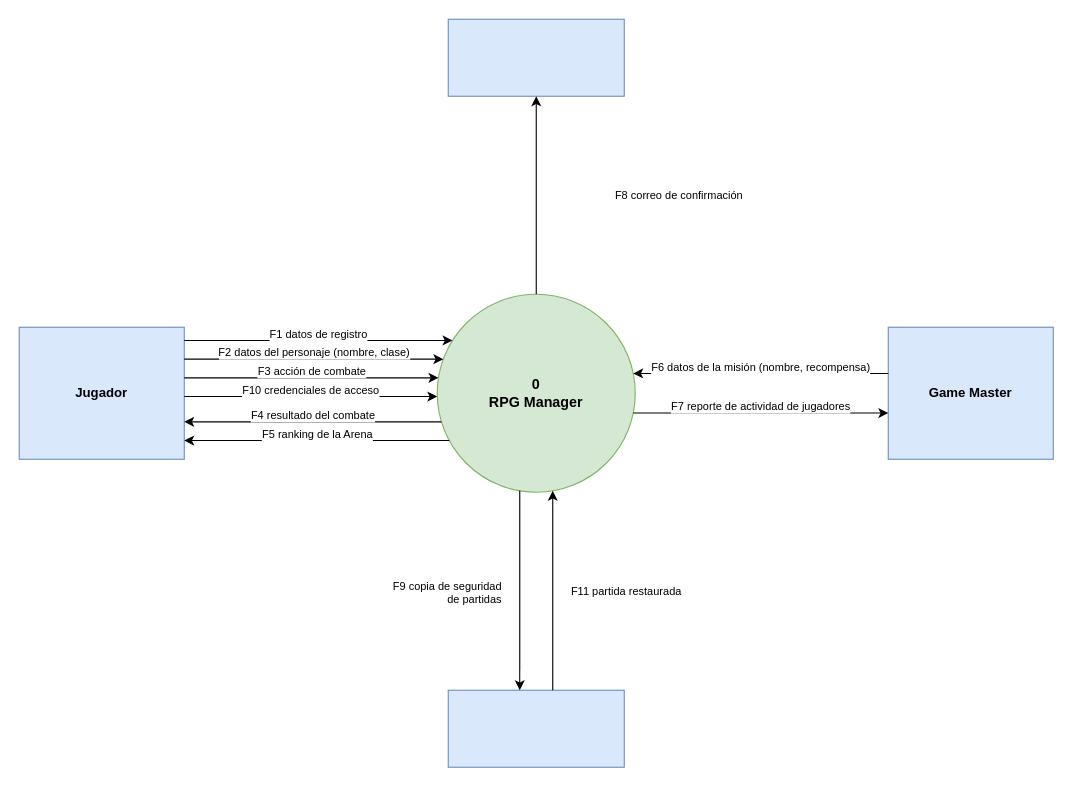
This 1073x787 diagram has some shape labels left out. Here are the shapes that lost their labels. From the top down, the centre of each, then its label:
At point (535, 57): "Servicio de Correo".
At point (535, 728): "Servicio de Respaldo en la Nube".
